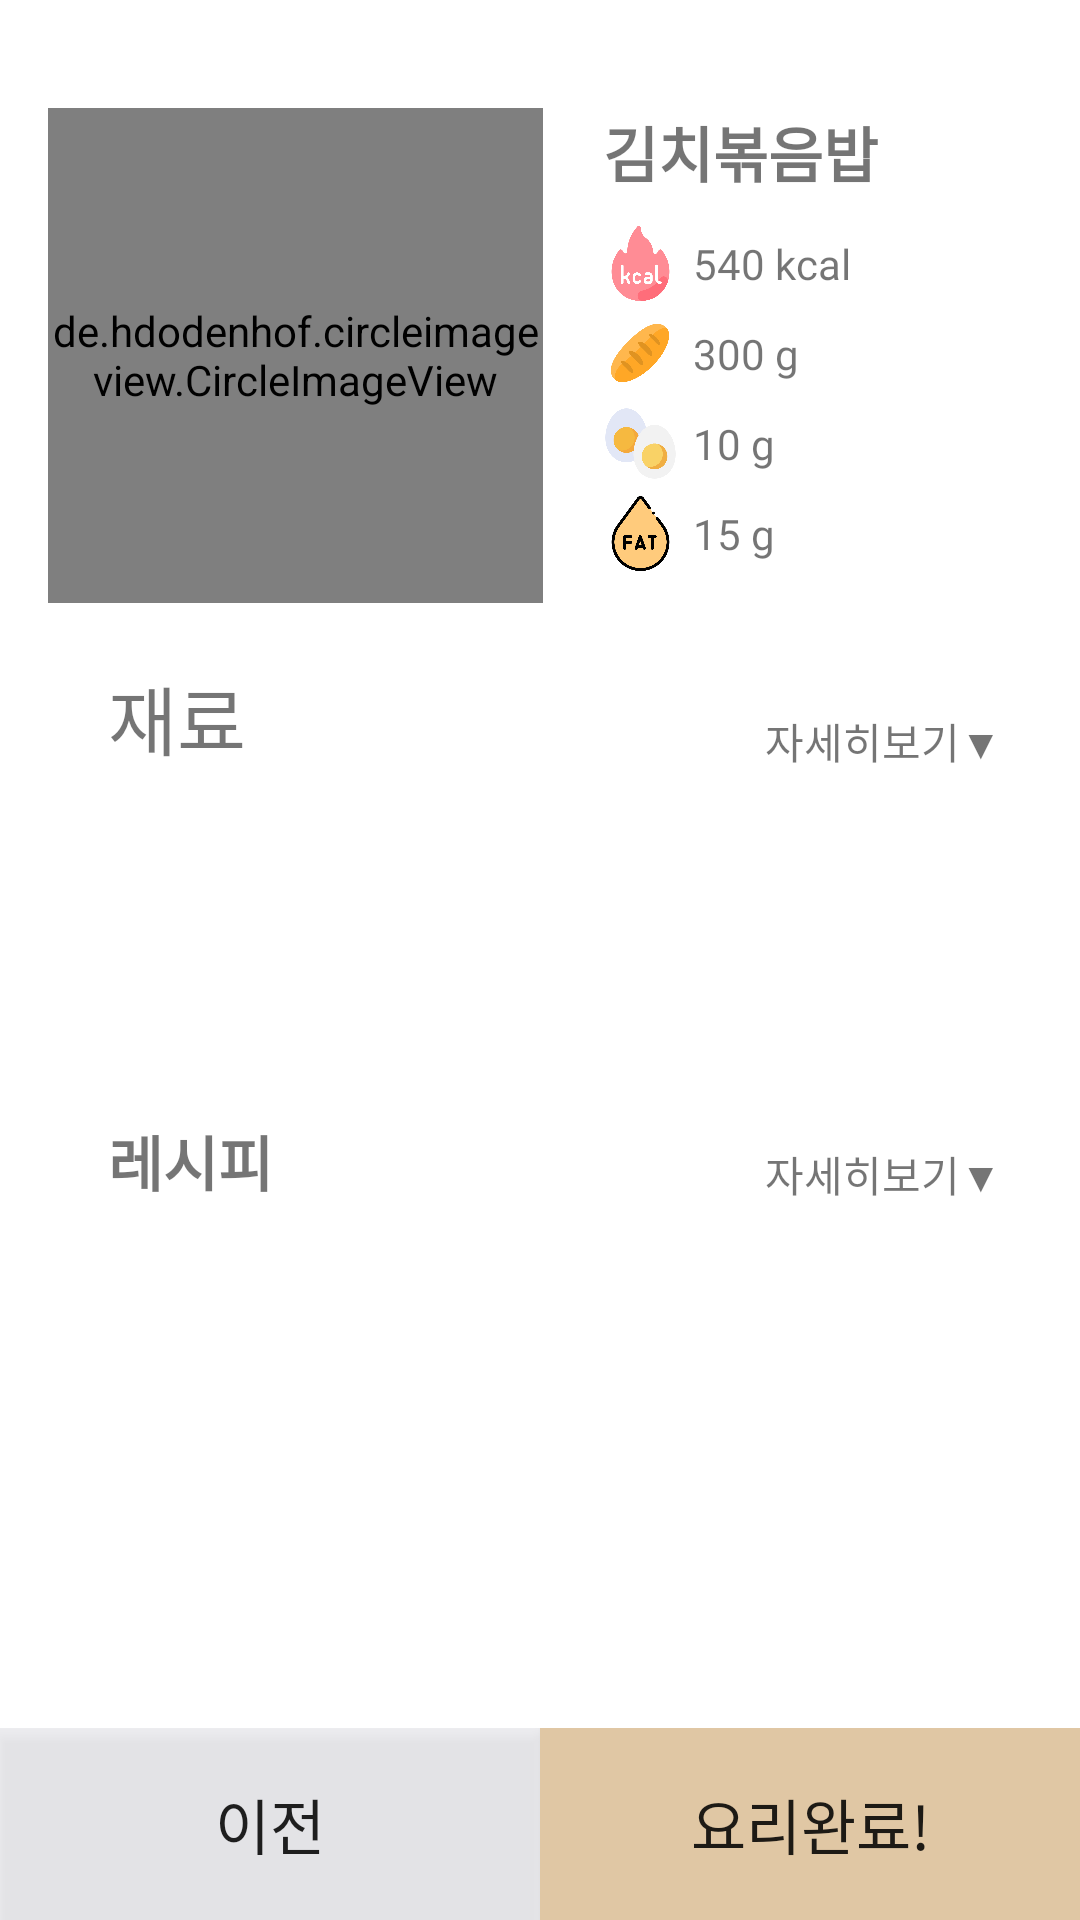

Named icons in this screenshot (1080 × 1920) and their bounding boxes, (x1, y1, x2, y2):
bread: (611, 324, 669, 382)
egg: (605, 408, 668, 469)
